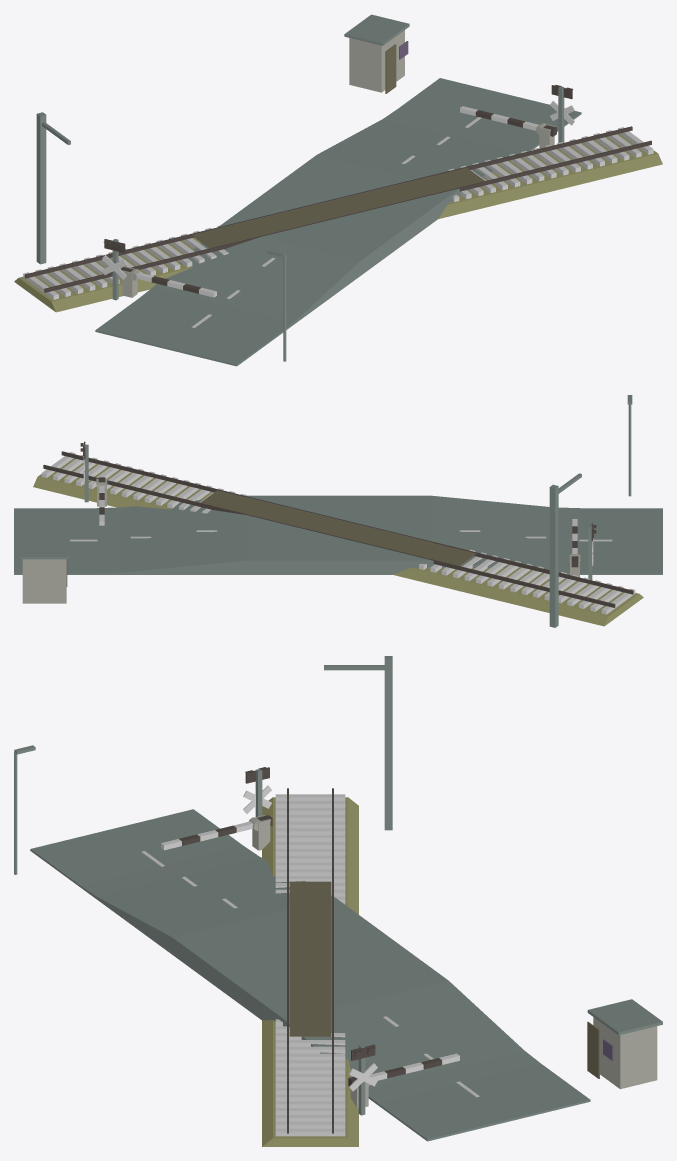
The model's file is SM_PasoNivel_30E_v4_Catenaria_LOD0.fbx.
The picture shows the model from 3 angles, top to bottom: view 1: azimuth 30°, elevation 25°; view 2: azimuth 150°, elevation 25°; view 3: azimuth 270°, elevation 25°; orthographic projection. The views are drawn at different scales.
Parts seen in each view (by area): view 1: SM_paso_nivel_kit_v39_LOD0, Barrera_1, Barrera_2; view 2: SM_paso_nivel_kit_v39_LOD0; view 3: SM_paso_nivel_kit_v39_LOD0, Barrera_2, Barrera_1.
Boxes of the visible parts, x1=… form: SM_paso_nivel_kit_v39_LOD0: x1=14, y1=14, x2=662, y2=366; Barrera_1: x1=460, y1=106, x2=556, y2=136; Barrera_2: x1=121, y1=267, x2=216, y2=297; SM_paso_nivel_kit_v39_LOD0: x1=14, y1=395, x2=662, y2=627; SM_paso_nivel_kit_v39_LOD0: x1=14, y1=656, x2=662, y2=1146; Barrera_2: x1=161, y1=815, x2=272, y2=850; Barrera_1: x1=348, y1=1053, x2=459, y2=1086.
Bounding box in the file's own units: 30 × 7 × 24.12.
